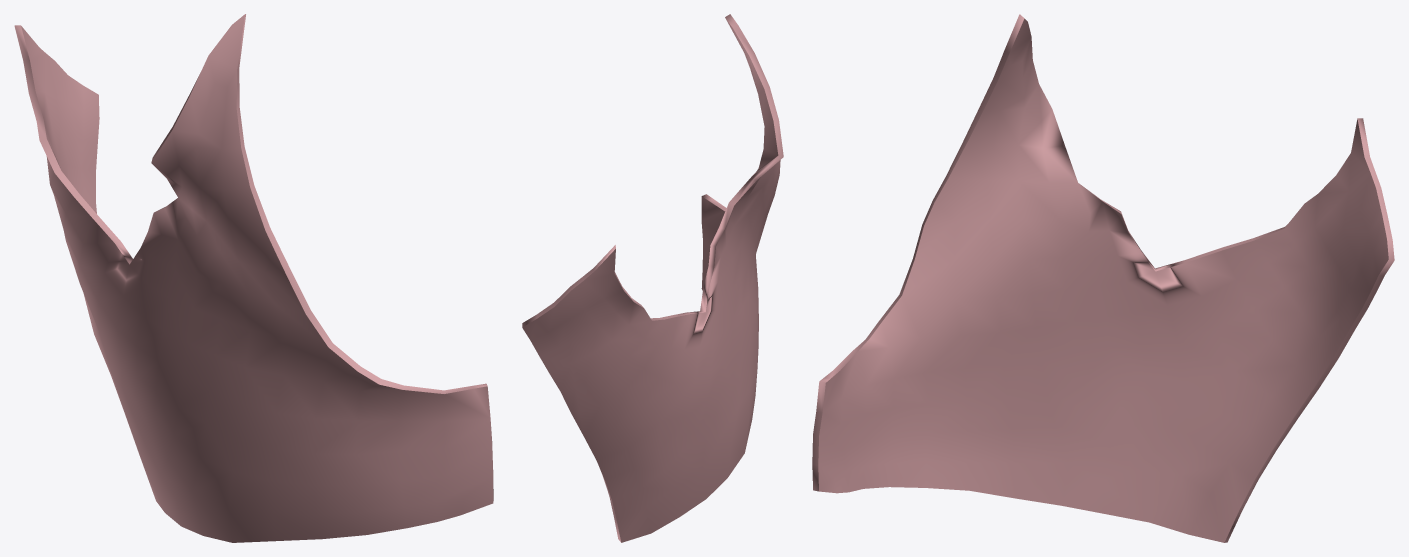
3 views of the same model, side by side, from view 1: azimuth 30°, elevation 25°; view 2: azimuth 150°, elevation 25°; view 3: azimuth 270°, elevation 25° (orthographic). The views are drawn at different scales.
Parts seen in each view (by area): view 1: ZA_ebd3e1765a4100b6; view 2: ZA_ebd3e1765a4100b6; view 3: ZA_ebd3e1765a4100b6.
Boxes of the visible parts, bbox=[...] form: ZA_ebd3e1765a4100b6: bbox=[14, 14, 493, 542]; ZA_ebd3e1765a4100b6: bbox=[522, 14, 783, 542]; ZA_ebd3e1765a4100b6: bbox=[812, 14, 1394, 542].
Size of the model in its own units: 0.1011 by 0.2437 by 0.2475.
